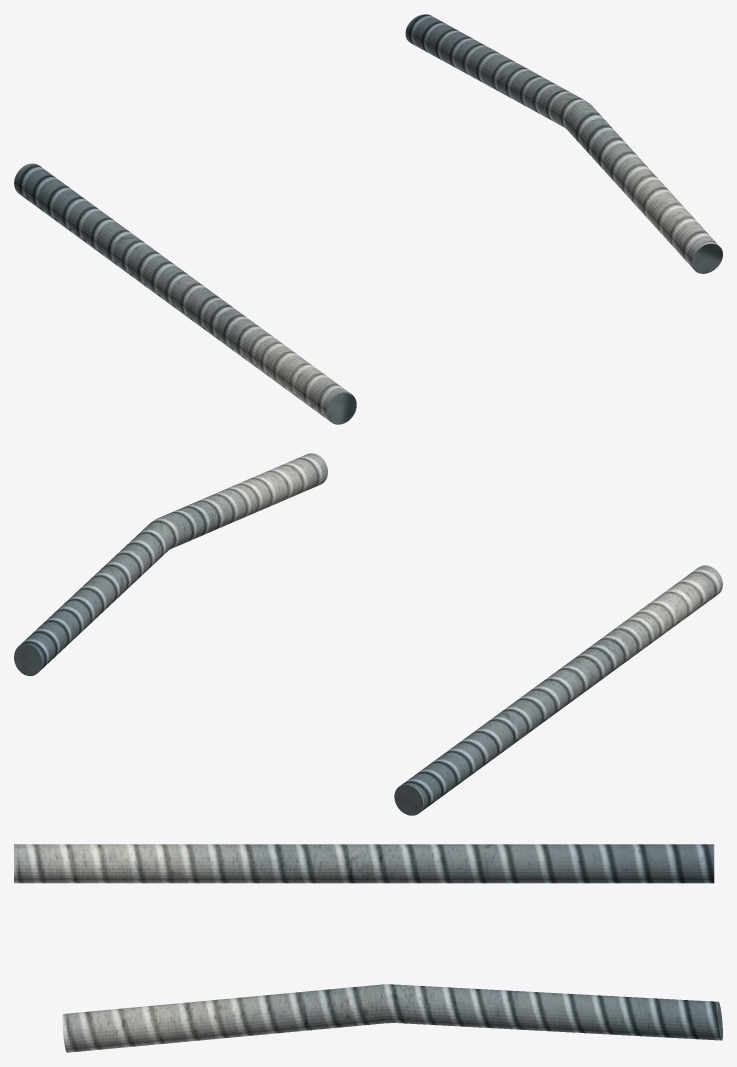
The model's file is rebar_brian.obj.
3 renders of one model, top to bottom at view 1: azimuth 30°, elevation 25°; view 2: azimuth 150°, elevation 25°; view 3: azimuth 270°, elevation 25°, orthographic. The views are drawn at different scales.
Parts seen in each view (by area): view 1: Cylinder; view 2: Cylinder; view 3: Cylinder.
Boxes of the visible parts, x1,y1,x2,y2 form: Cylinder: (14, 14, 722, 424); Cylinder: (14, 453, 722, 815); Cylinder: (14, 844, 722, 1052).
Bounding box in the file's own units: 149 × 33.93 × 189.
